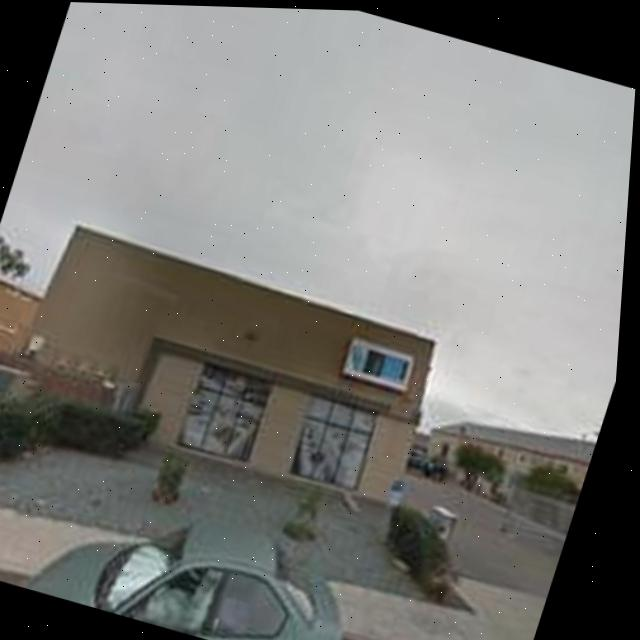building: (0, 217, 459, 514), (417, 397, 598, 504)
